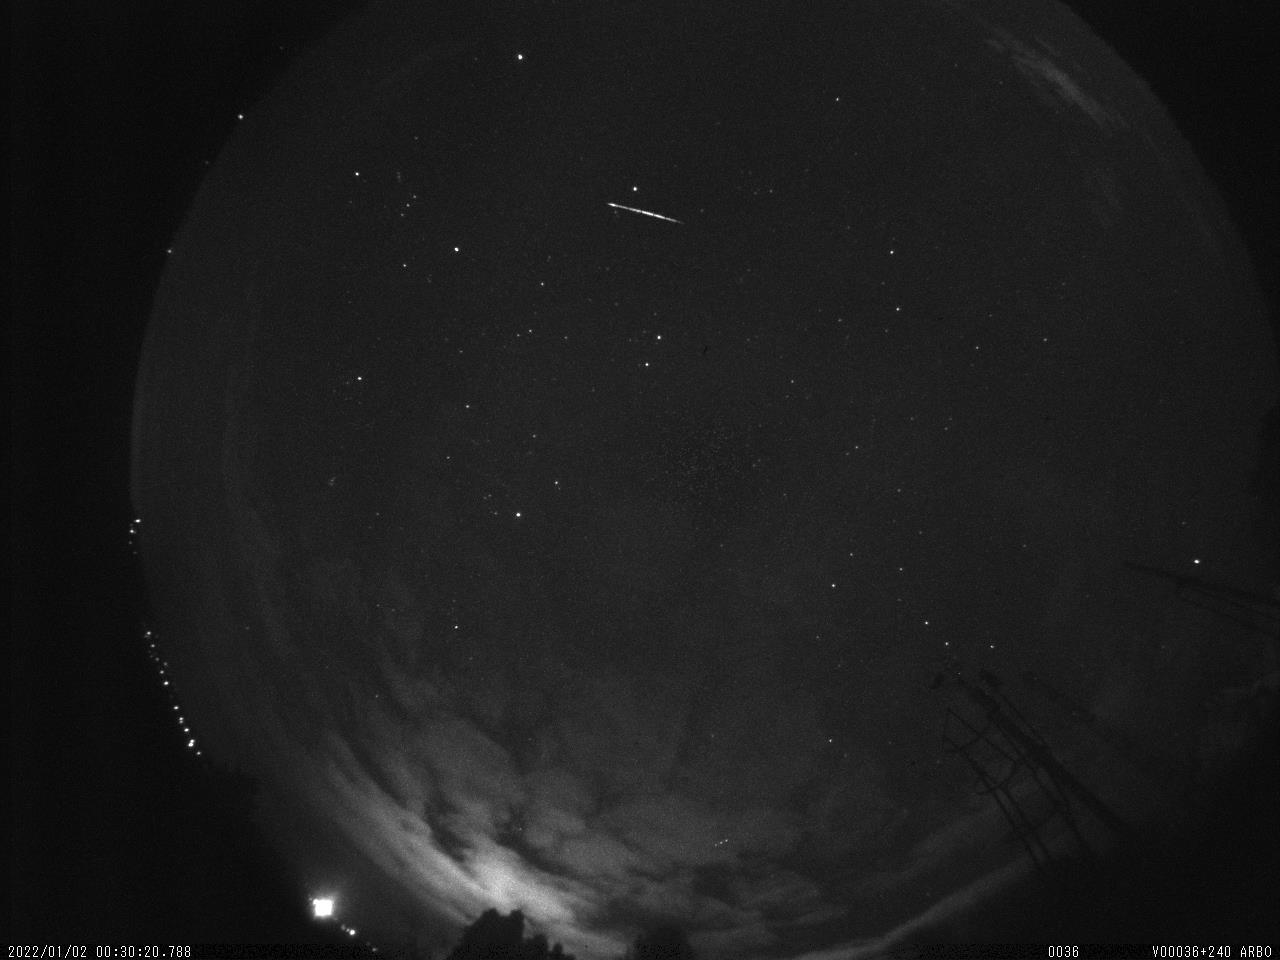Meteor: (601, 197, 681, 223)
